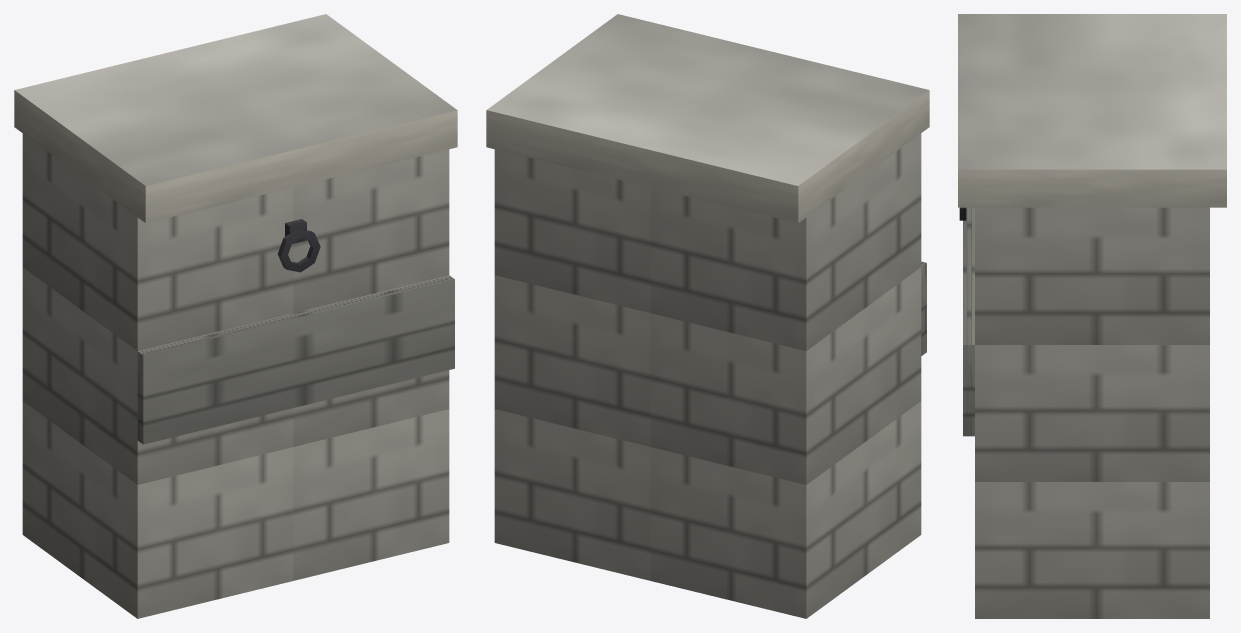
Rendered from dock_quay_wall_01.glb.
The picture shows the model from 3 angles, left to right: view 1: azimuth 30°, elevation 25°; view 2: azimuth 150°, elevation 25°; view 3: azimuth 270°, elevation 25°; orthographic projection. The views are drawn at different scales.
Parts seen in each view (by area): view 1: dock_quay_wall_01; view 2: dock_quay_wall_01; view 3: dock_quay_wall_01.
Part boxes in pixels (bbox=[...]): dock_quay_wall_01: bbox=[14, 14, 457, 618]; dock_quay_wall_01: bbox=[486, 14, 929, 618]; dock_quay_wall_01: bbox=[958, 14, 1226, 618].
Bounding box in the file's own units: 2.19 × 2.95 × 1.6.
Materials: 1 (1 with a texture image).
